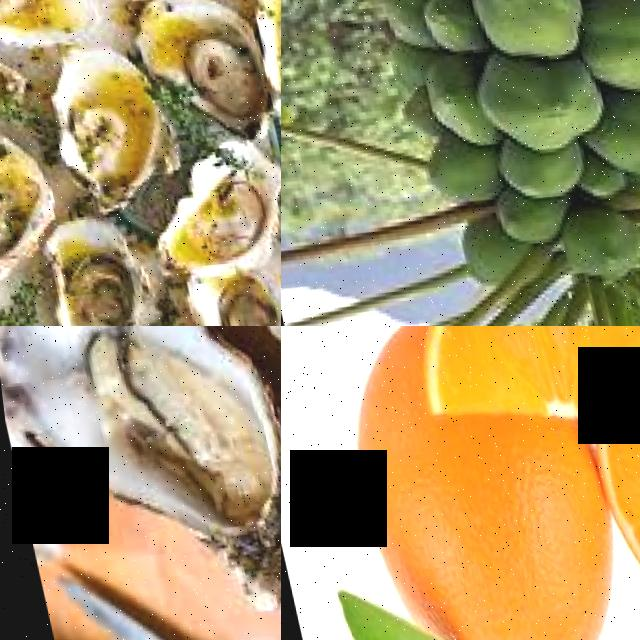orange: (330, 408, 638, 640), (400, 326, 640, 442)
oysters: (0, 326, 281, 607), (26, 41, 174, 228), (130, 133, 281, 283), (146, 0, 266, 141), (14, 221, 155, 326), (159, 255, 281, 326), (0, 137, 51, 281), (232, 0, 281, 110), (0, 0, 87, 59)
pawpaw: (459, 58, 598, 151), (545, 204, 636, 286), (411, 49, 482, 152), (459, 0, 576, 60), (569, 0, 640, 92), (407, 137, 494, 210), (580, 89, 640, 177), (486, 144, 579, 199), (484, 197, 559, 248), (415, 0, 477, 54)
